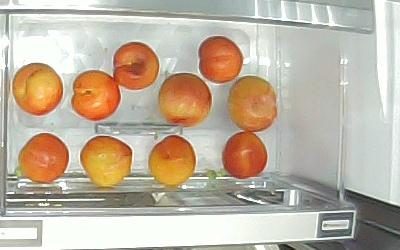prune: (225, 75, 277, 132), (157, 73, 212, 126), (80, 135, 133, 189), (12, 62, 64, 116), (146, 135, 198, 187), (17, 133, 70, 184), (71, 69, 120, 120), (112, 40, 158, 90), (198, 34, 243, 84), (222, 132, 268, 180)
